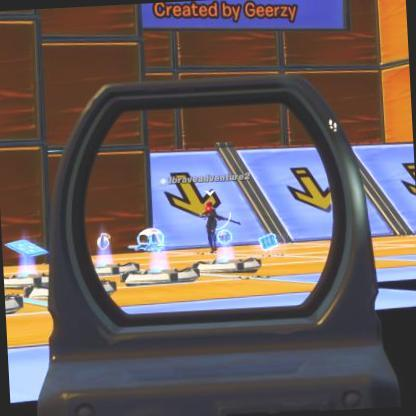person: (200, 200, 221, 257)
